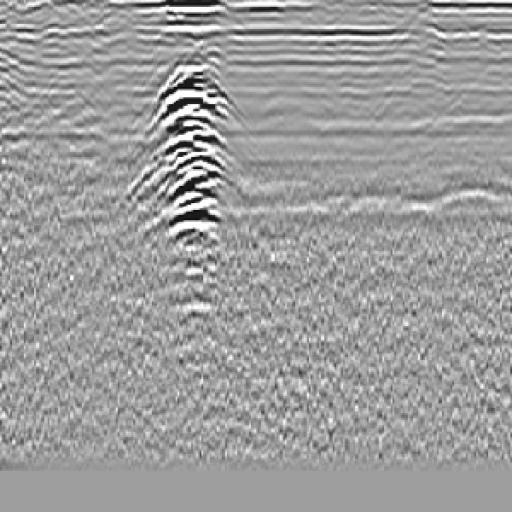metalic: (117, 35, 280, 316)
